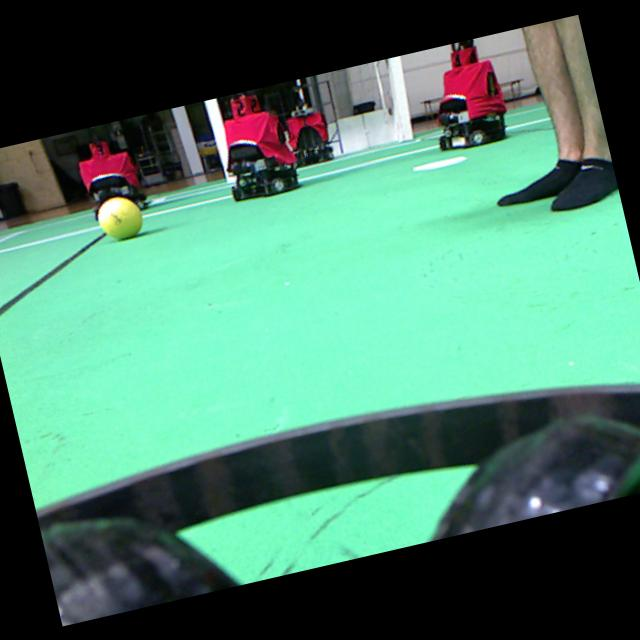ball: (97, 196, 141, 238)
goal: (205, 98, 235, 181), (387, 55, 412, 141)
